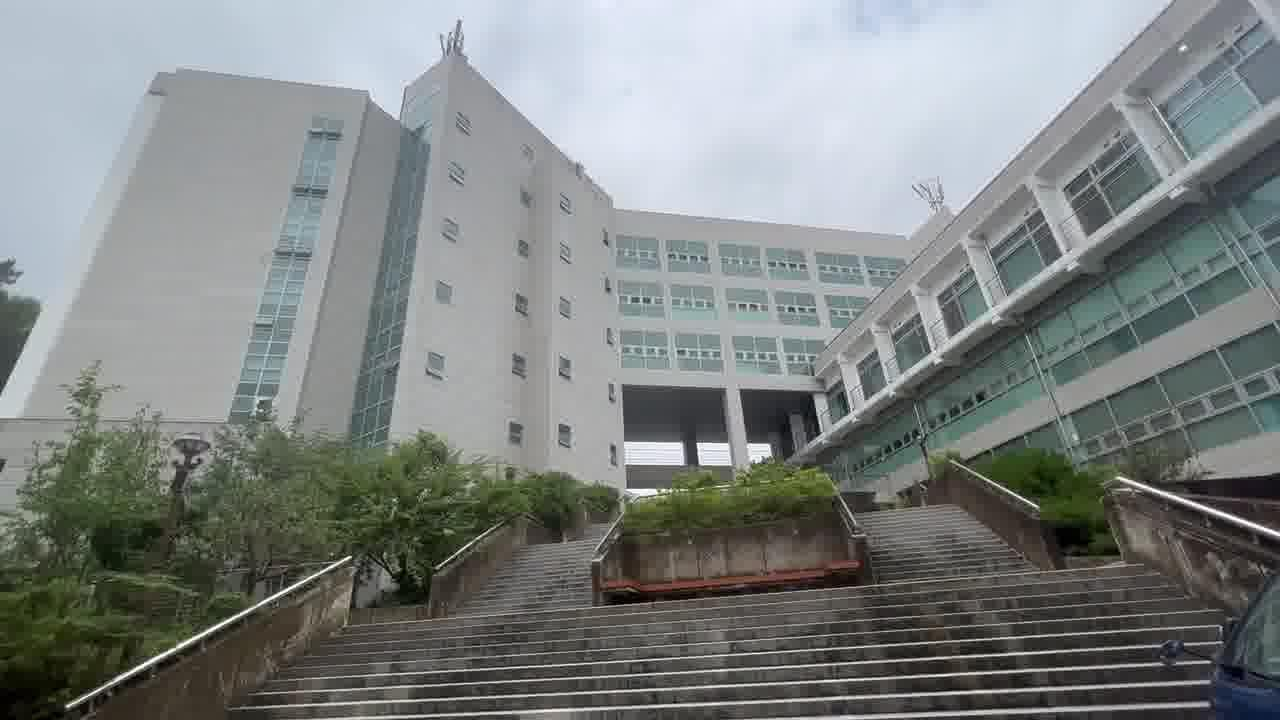building: (63, 51, 863, 427)
